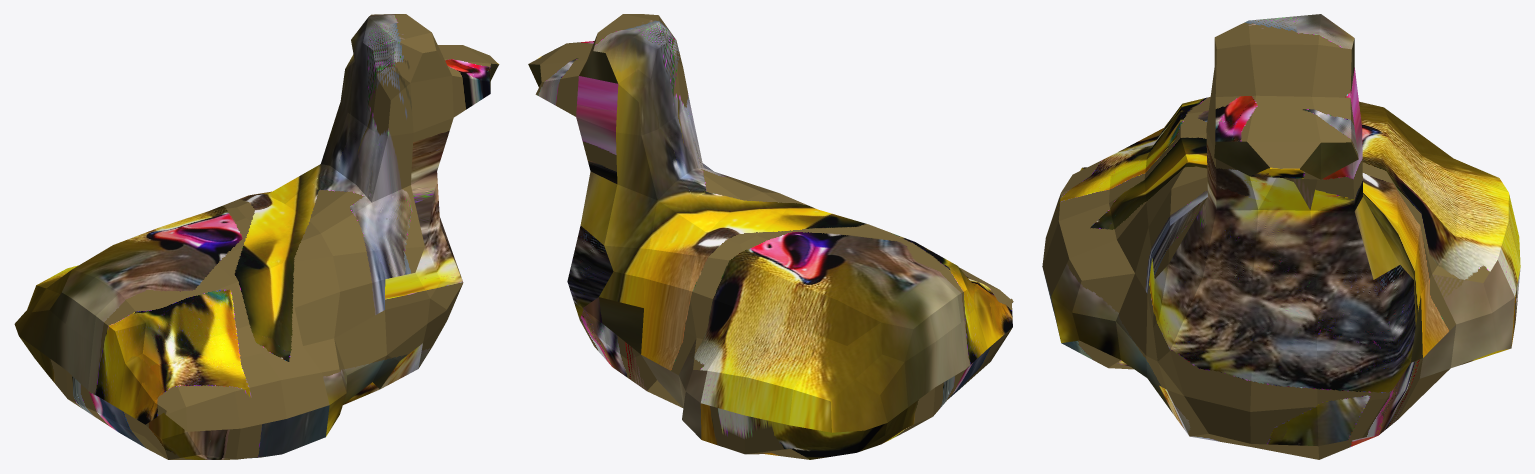
The model's file is winwrapped.glb.
3 renders of one model, left to right at view 1: azimuth 30°, elevation 25°; view 2: azimuth 150°, elevation 25°; view 3: azimuth 270°, elevation 25°, orthographic. The views are drawn at different scales.
Visible parts, largest first — view 1: mesh; view 2: mesh; view 3: mesh.
Part boxes in pixels (bbox=[...]): mesh: bbox=[14, 14, 499, 459]; mesh: bbox=[528, 14, 1013, 459]; mesh: bbox=[1042, 14, 1520, 459].
Size of the model in its own units: 0.9004 by 0.6987 by 0.6634.
Materials: 1 (1 with a texture image).
